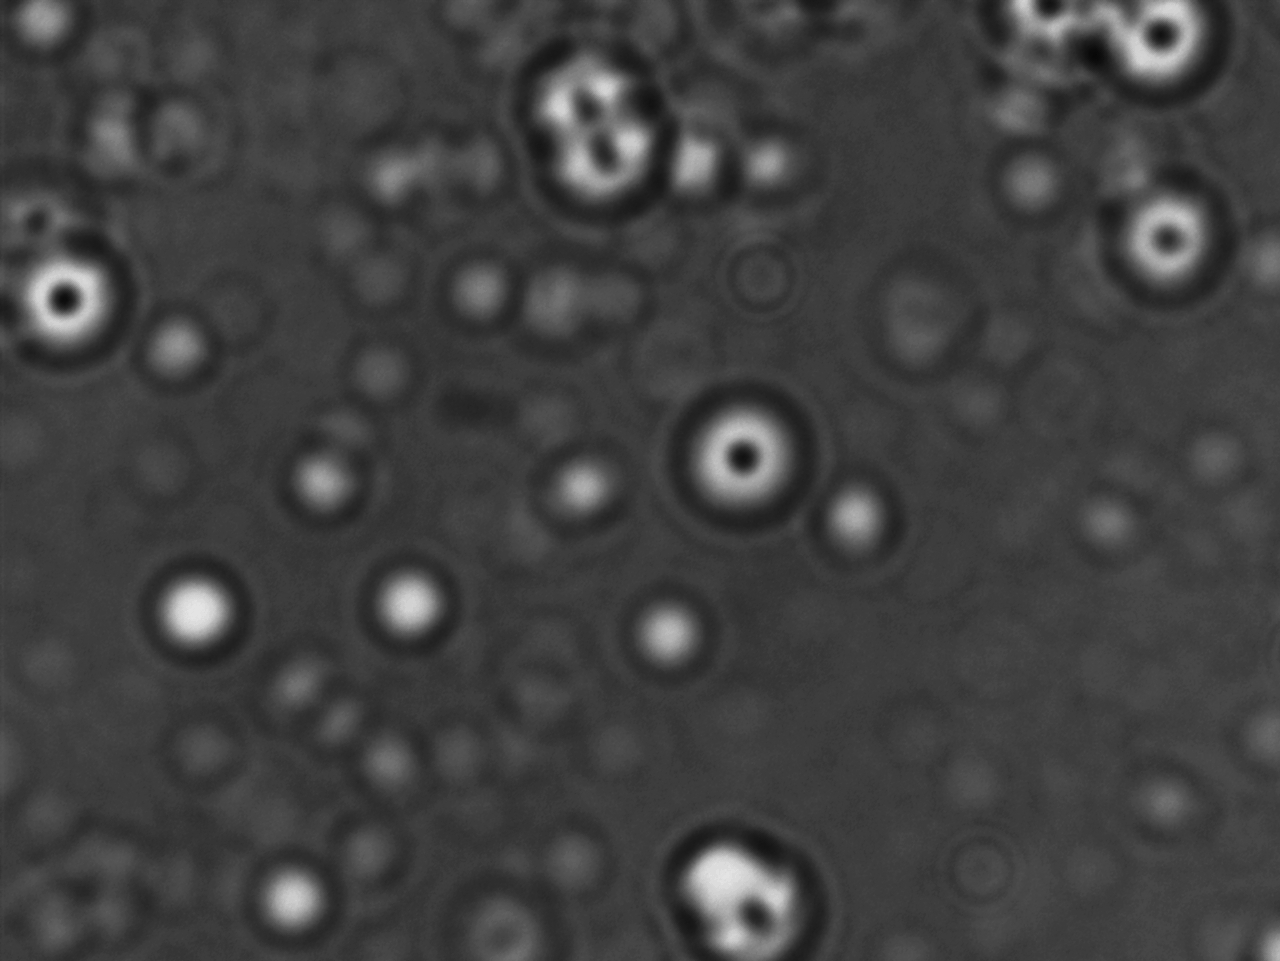depth:24: (667, 377, 825, 534), (0, 233, 141, 372)
depth:32: (1111, 176, 1244, 311)
